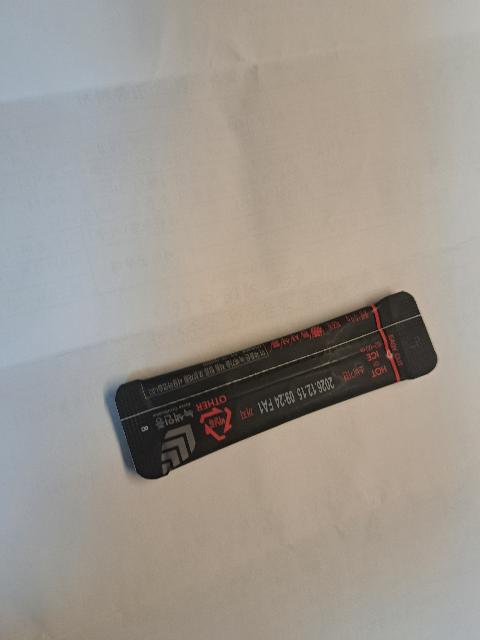KANU: (102, 284, 440, 487)
